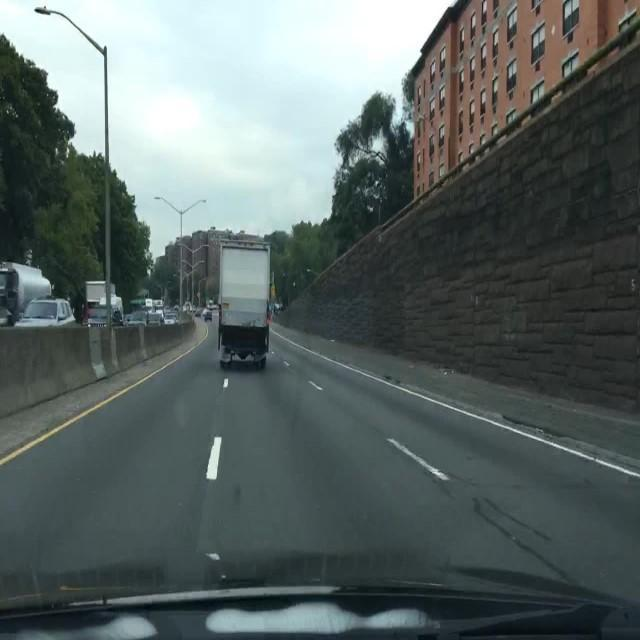normal: (216, 235, 277, 371), (17, 296, 80, 328)
